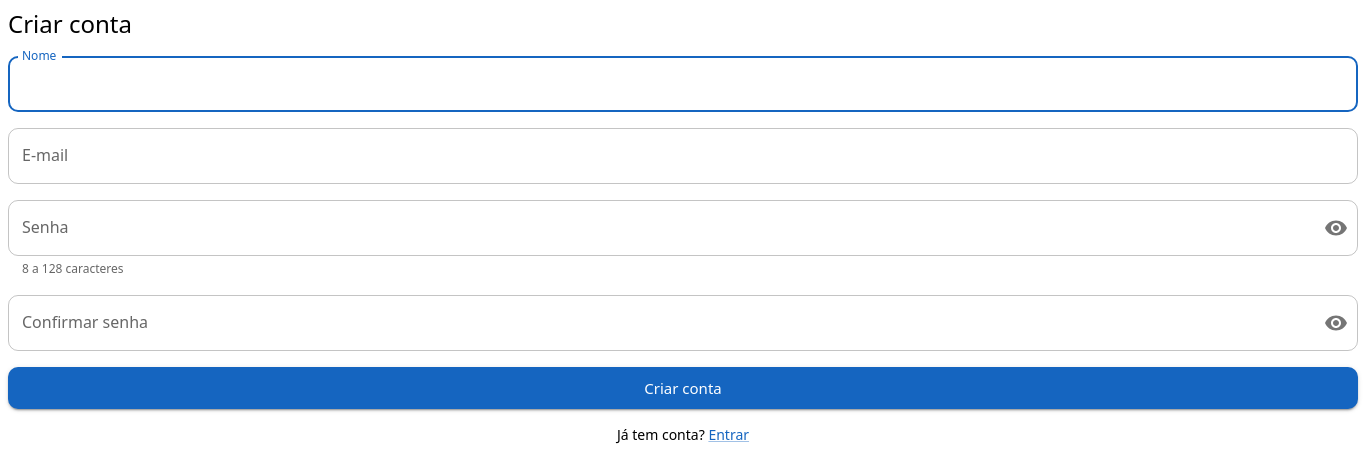
Registro: validação no cliente › a dica "8 a 128 caracteres" dá lugar ao erro da senha
Type "Caio Souza" into the field labelled "Nome" at (683, 84), box [8, 56, 1358, 112]
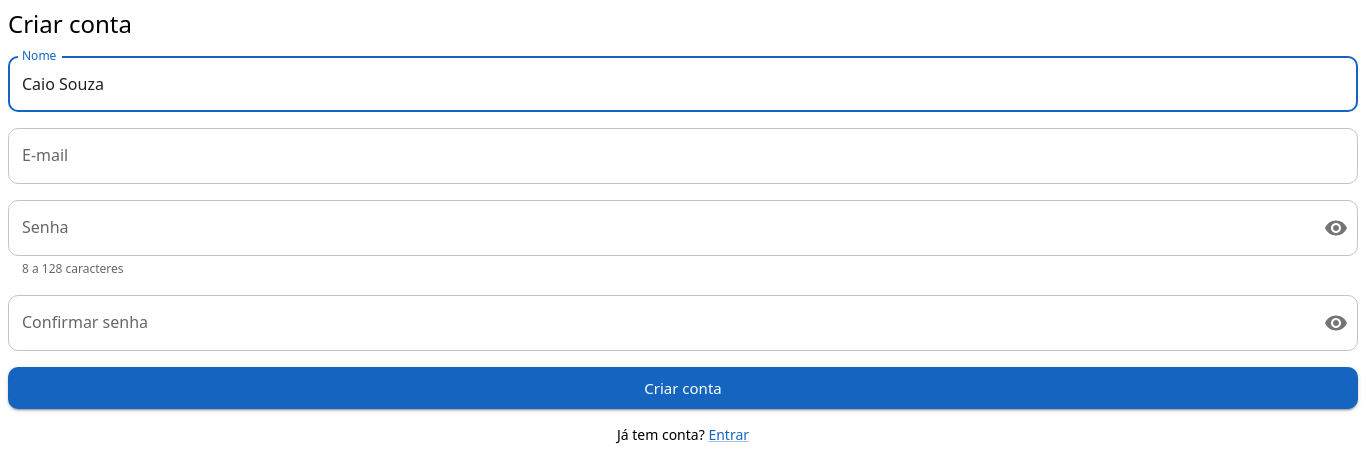
Type "caio@example.com" into the field labelled "E-mail" at (683, 156), box [8, 128, 1358, 184]
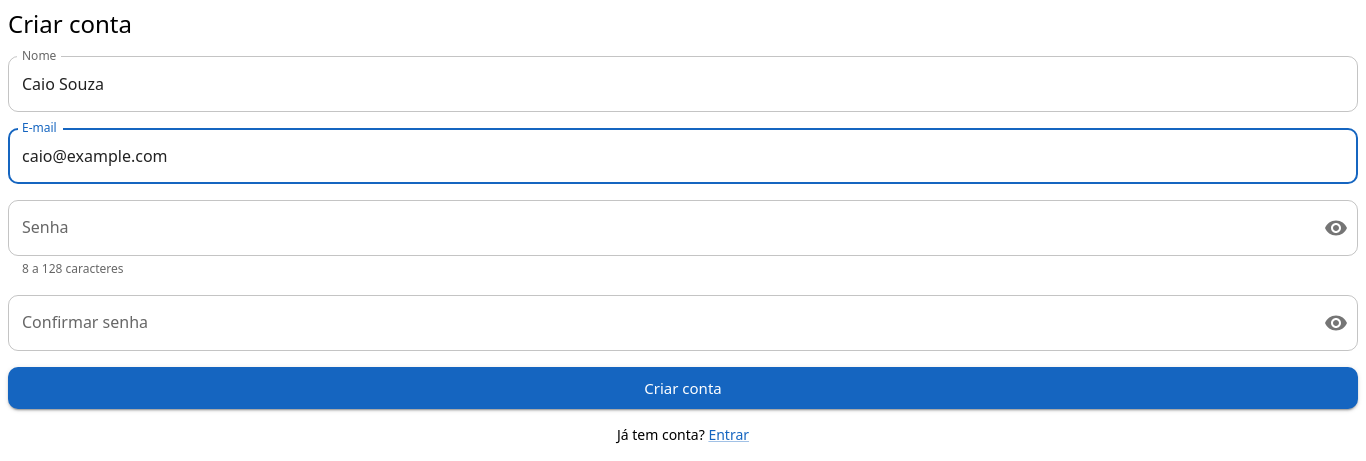
Type "curta" into the password field labelled "Senha" at (658, 228), box [8, 200, 1308, 256]
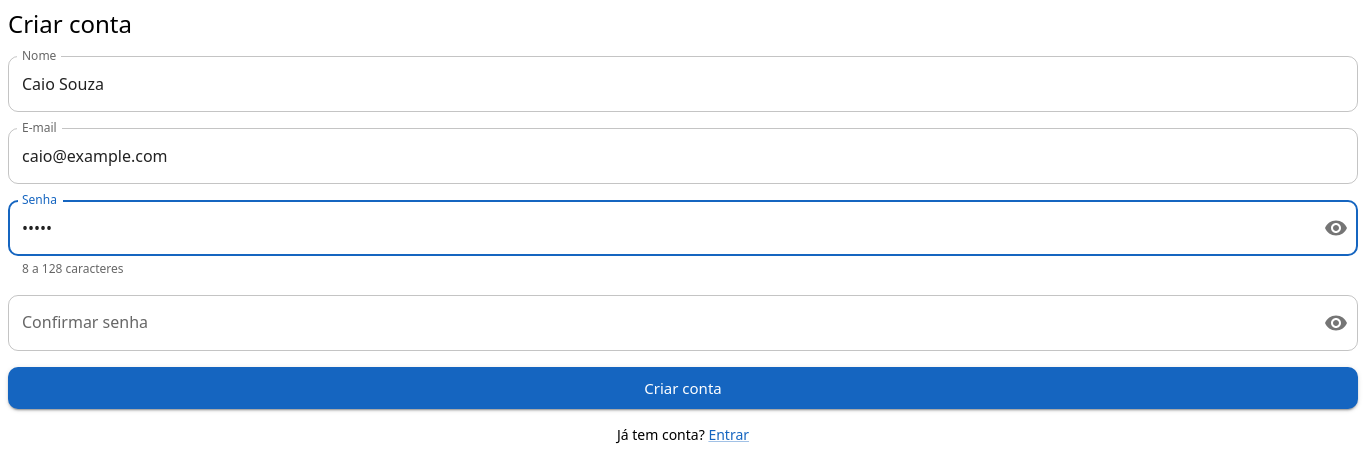
Type "curta" into the password field labelled "Confirmar senha" at (658, 323), box [8, 295, 1308, 351]
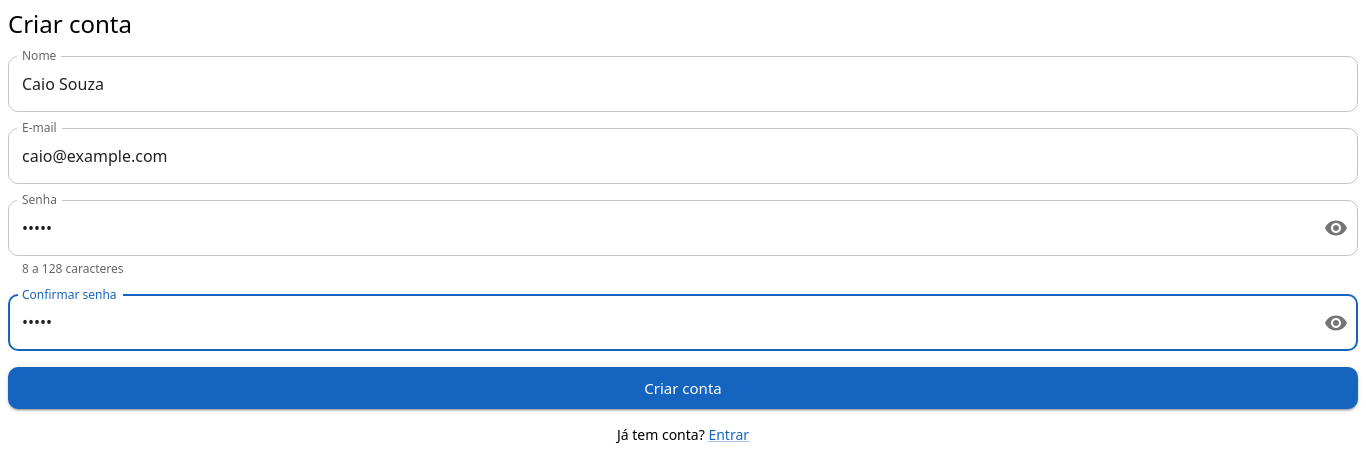
Click the button "Criar conta" at (683, 388), box [8, 367, 1358, 409]
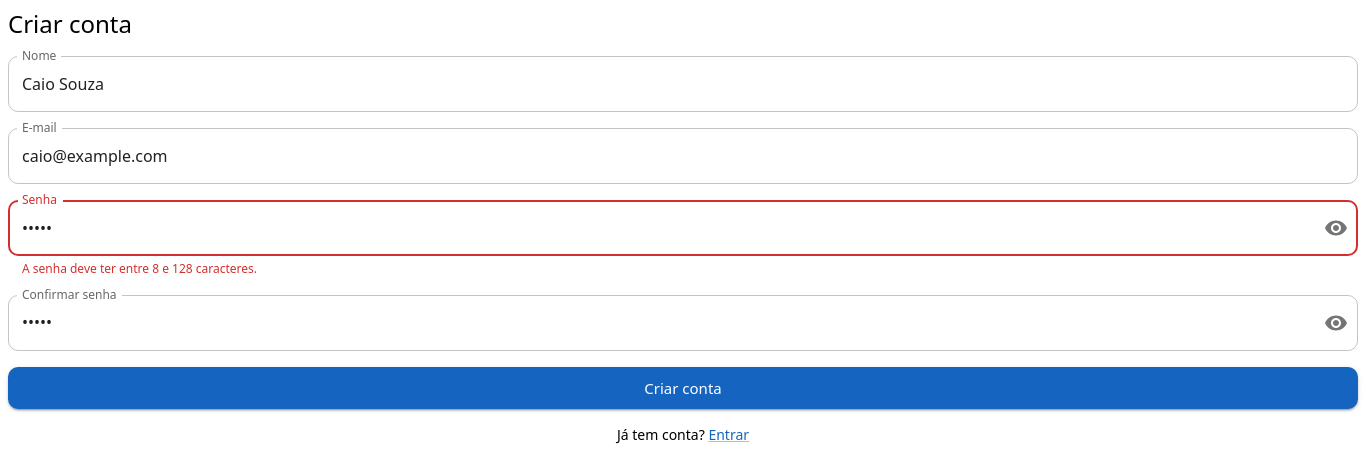
Check: the text "A senha deve ter entre 8 e 128 caracteres." is shown, box [22, 260, 257, 277]
Check: the text "8 a 128 caracteres" is gone
